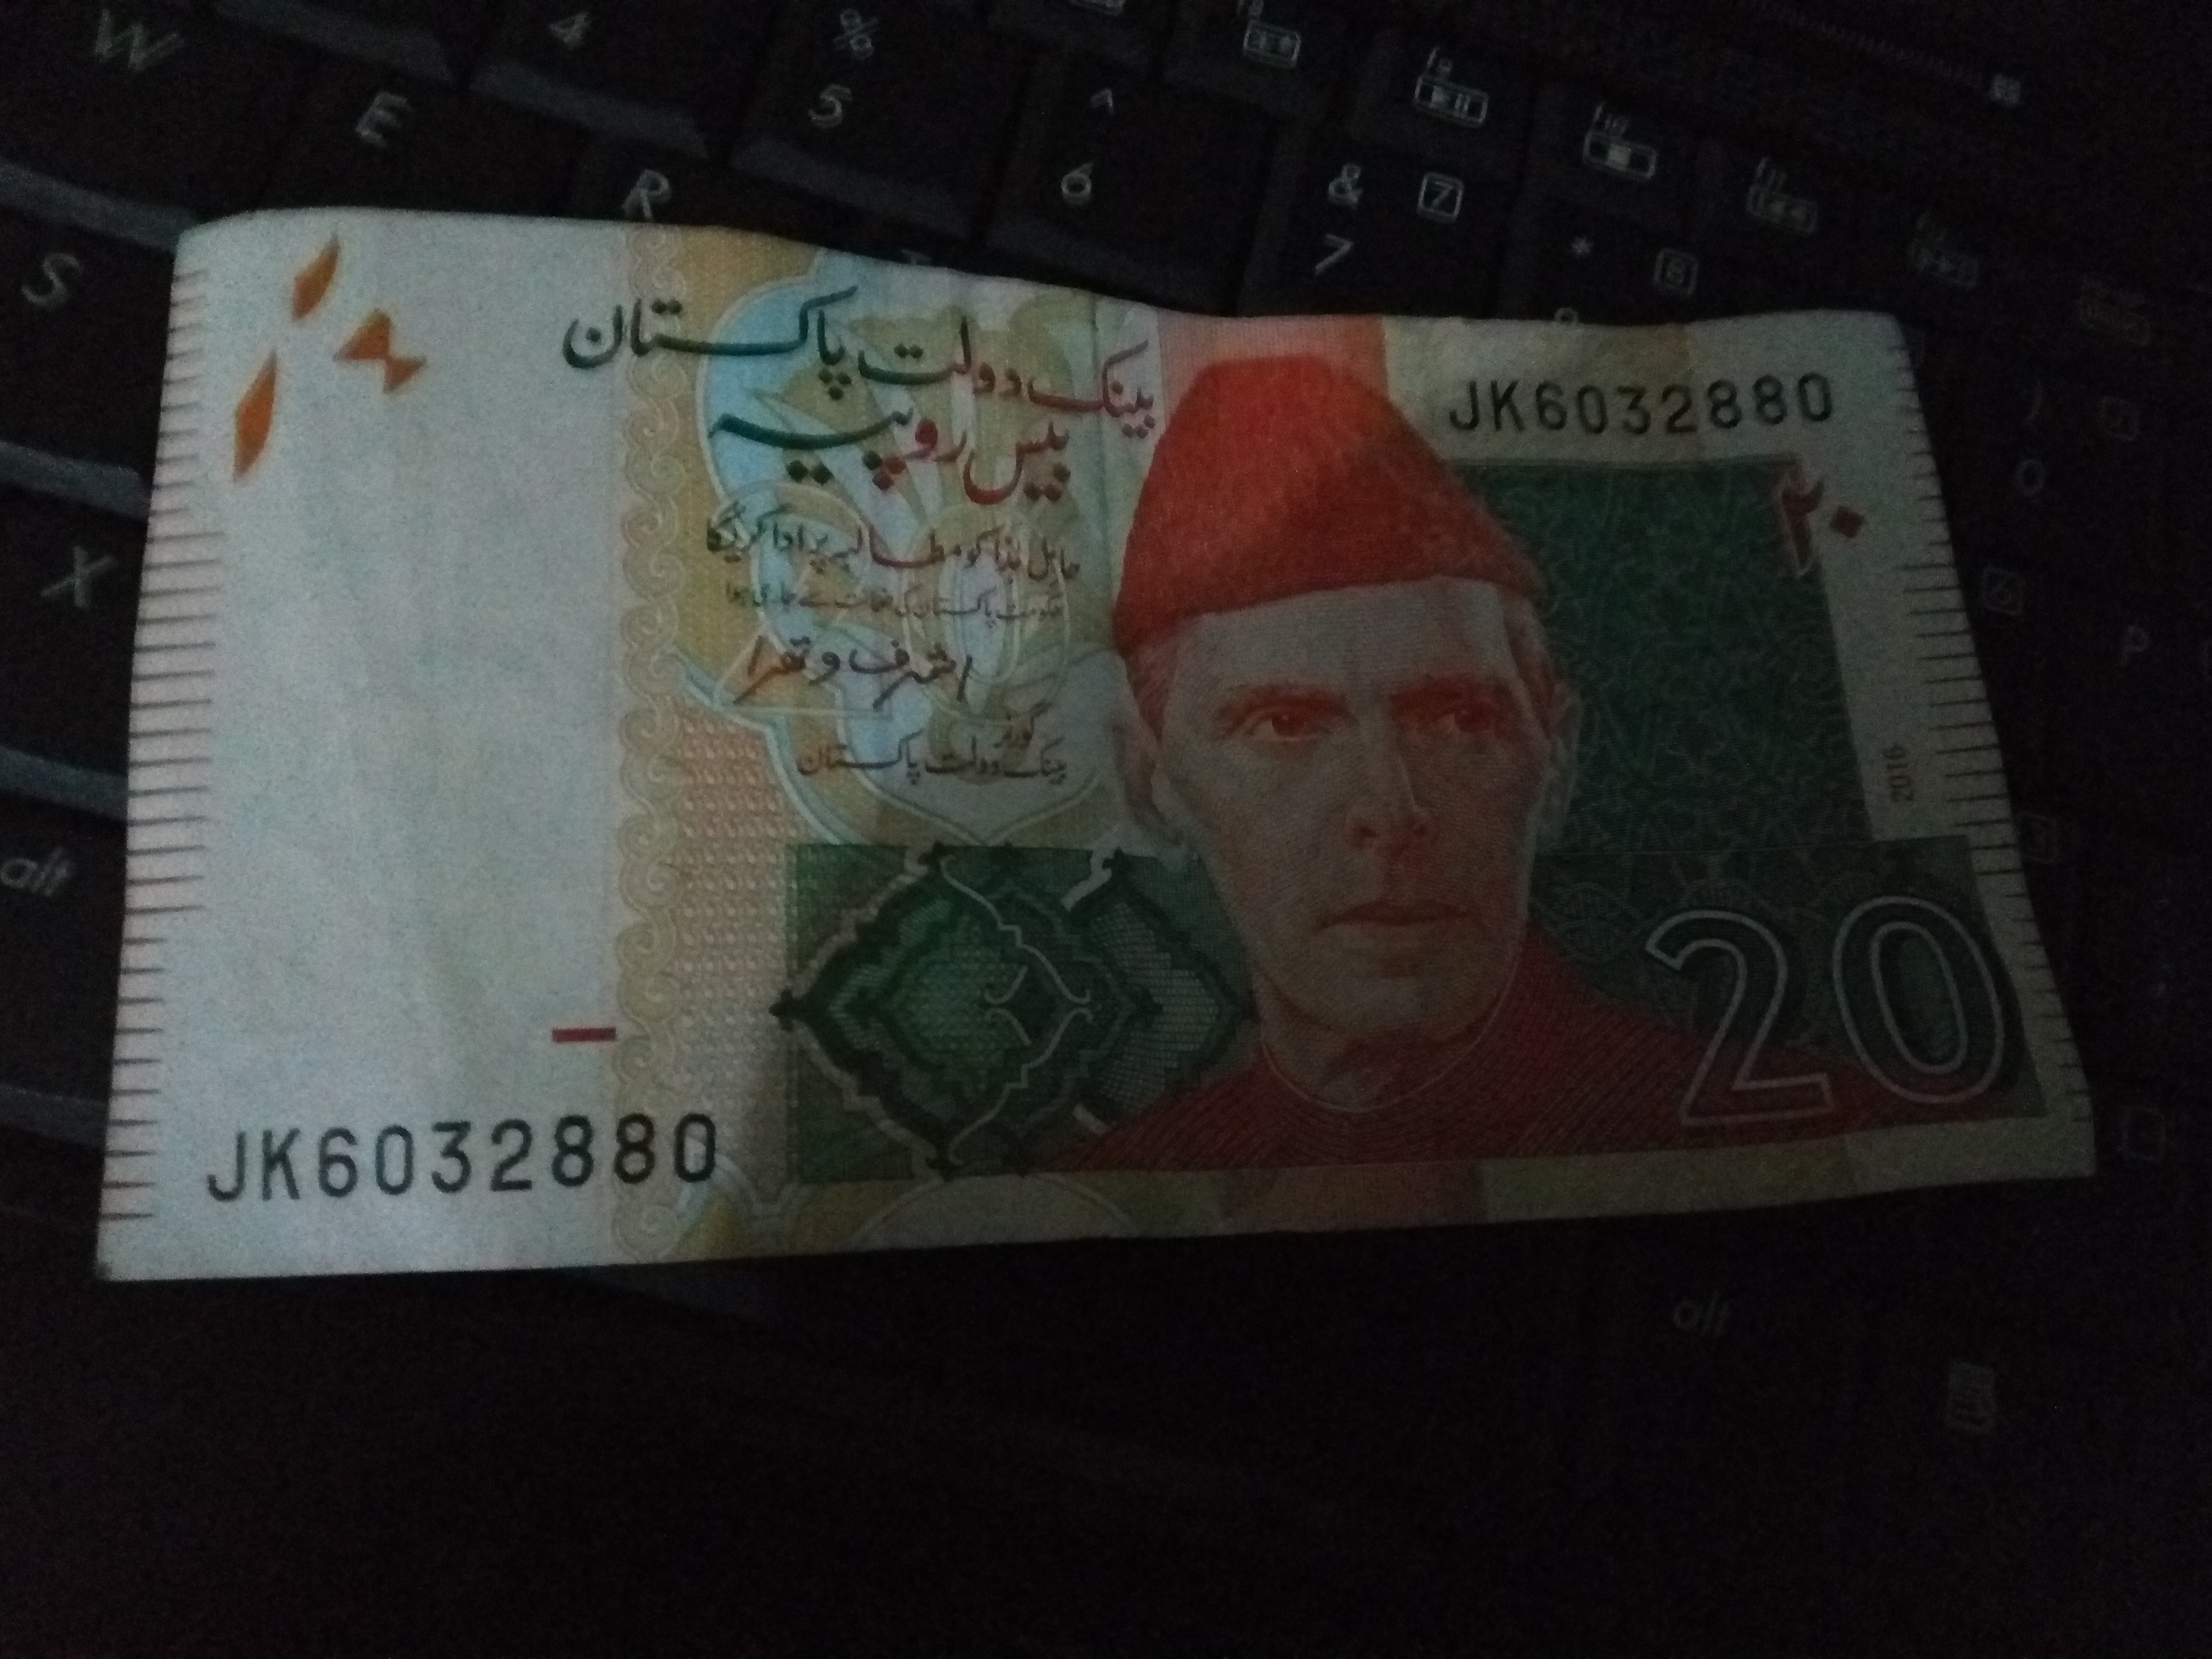20 rupee: (136, 209, 2134, 1305)
